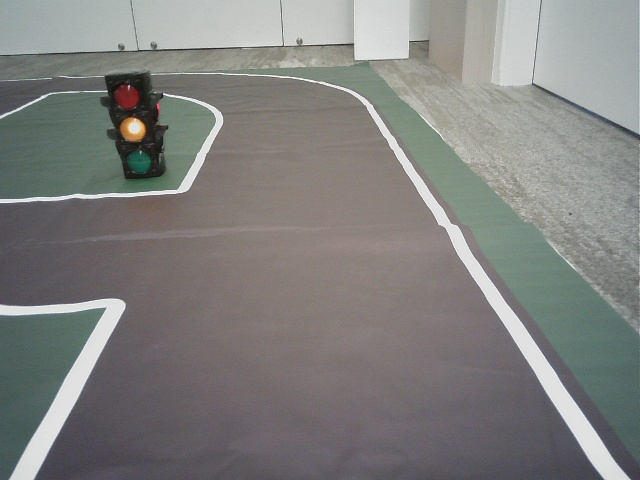yellow: (111, 79, 155, 171)
